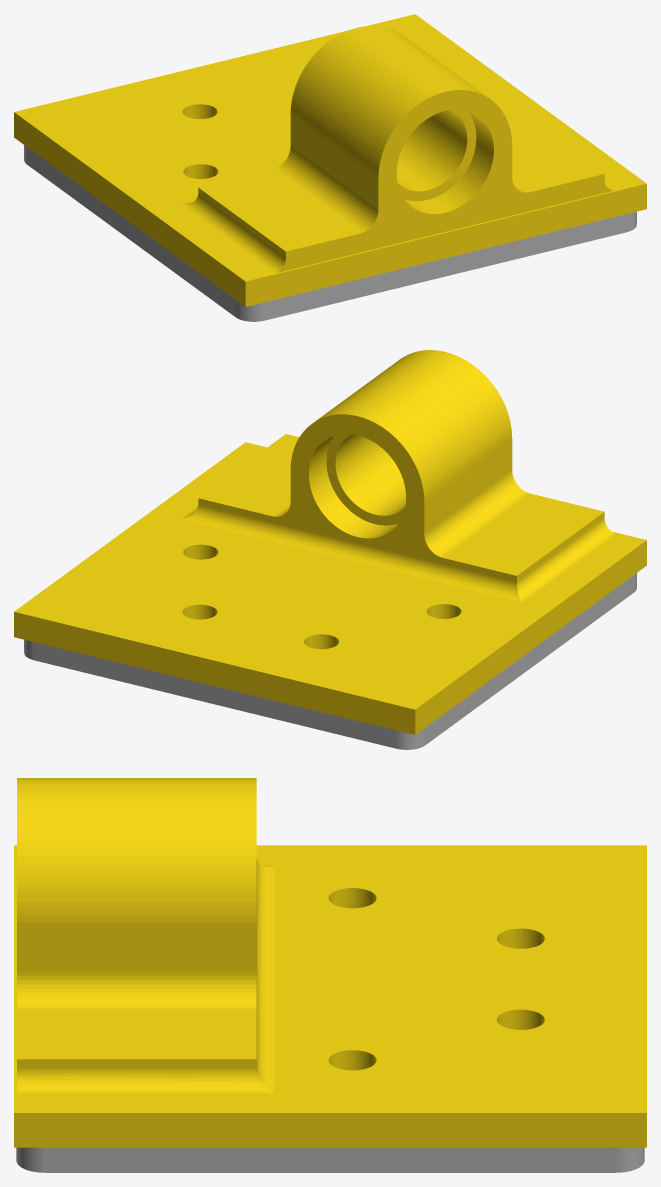
The model's file is Gantry_Assembly.dae.
3 views of the same model, one above another, from view 1: azimuth 30°, elevation 25°; view 2: azimuth 150°, elevation 25°; view 3: azimuth 270°, elevation 25° (orthographic). The views are drawn at different scales.
Parts seen in each view (by area): view 1: 5ea46f9cc1243115c9629cd9.001, 5ea46f9cc1243115c9629cd9; view 2: 5ea46f9cc1243115c9629cd9.001, 5ea46f9cc1243115c9629cd9; view 3: 5ea46f9cc1243115c9629cd9.001, 5ea46f9cc1243115c9629cd9.
Boxes of the visible parts, <box> form: 5ea46f9cc1243115c9629cd9.001: <box>14,14,646,306</box>; 5ea46f9cc1243115c9629cd9: <box>24,145,636,321</box>; 5ea46f9cc1243115c9629cd9.001: <box>14,350,646,734</box>; 5ea46f9cc1243115c9629cd9: <box>24,573,636,749</box>; 5ea46f9cc1243115c9629cd9.001: <box>14,778,646,1147</box>; 5ea46f9cc1243115c9629cd9: <box>16,1147,644,1172</box>.
Size of the model in its own units: 0.066 by 0.066 by 0.029.
